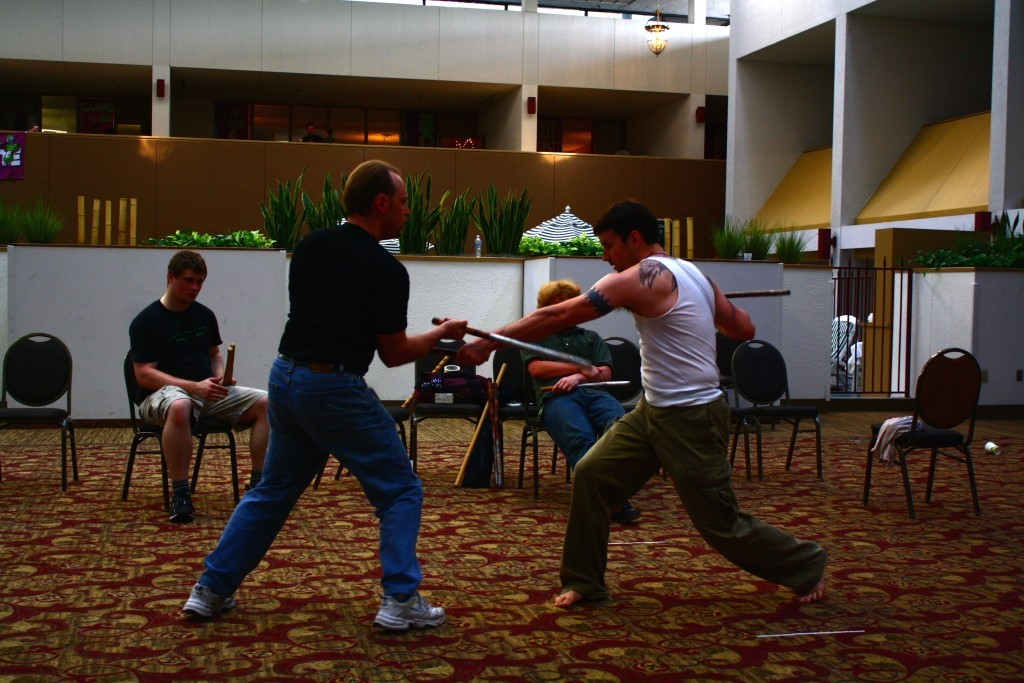baston_e: (443, 319, 582, 367), (453, 365, 507, 479), (400, 357, 450, 403), (545, 378, 620, 393), (716, 289, 780, 299)
baston_v: (581, 356, 596, 373), (425, 312, 442, 325), (621, 377, 634, 388), (397, 400, 408, 411), (782, 288, 793, 298), (499, 359, 511, 368), (451, 478, 460, 488), (444, 351, 453, 360), (539, 383, 546, 392)
